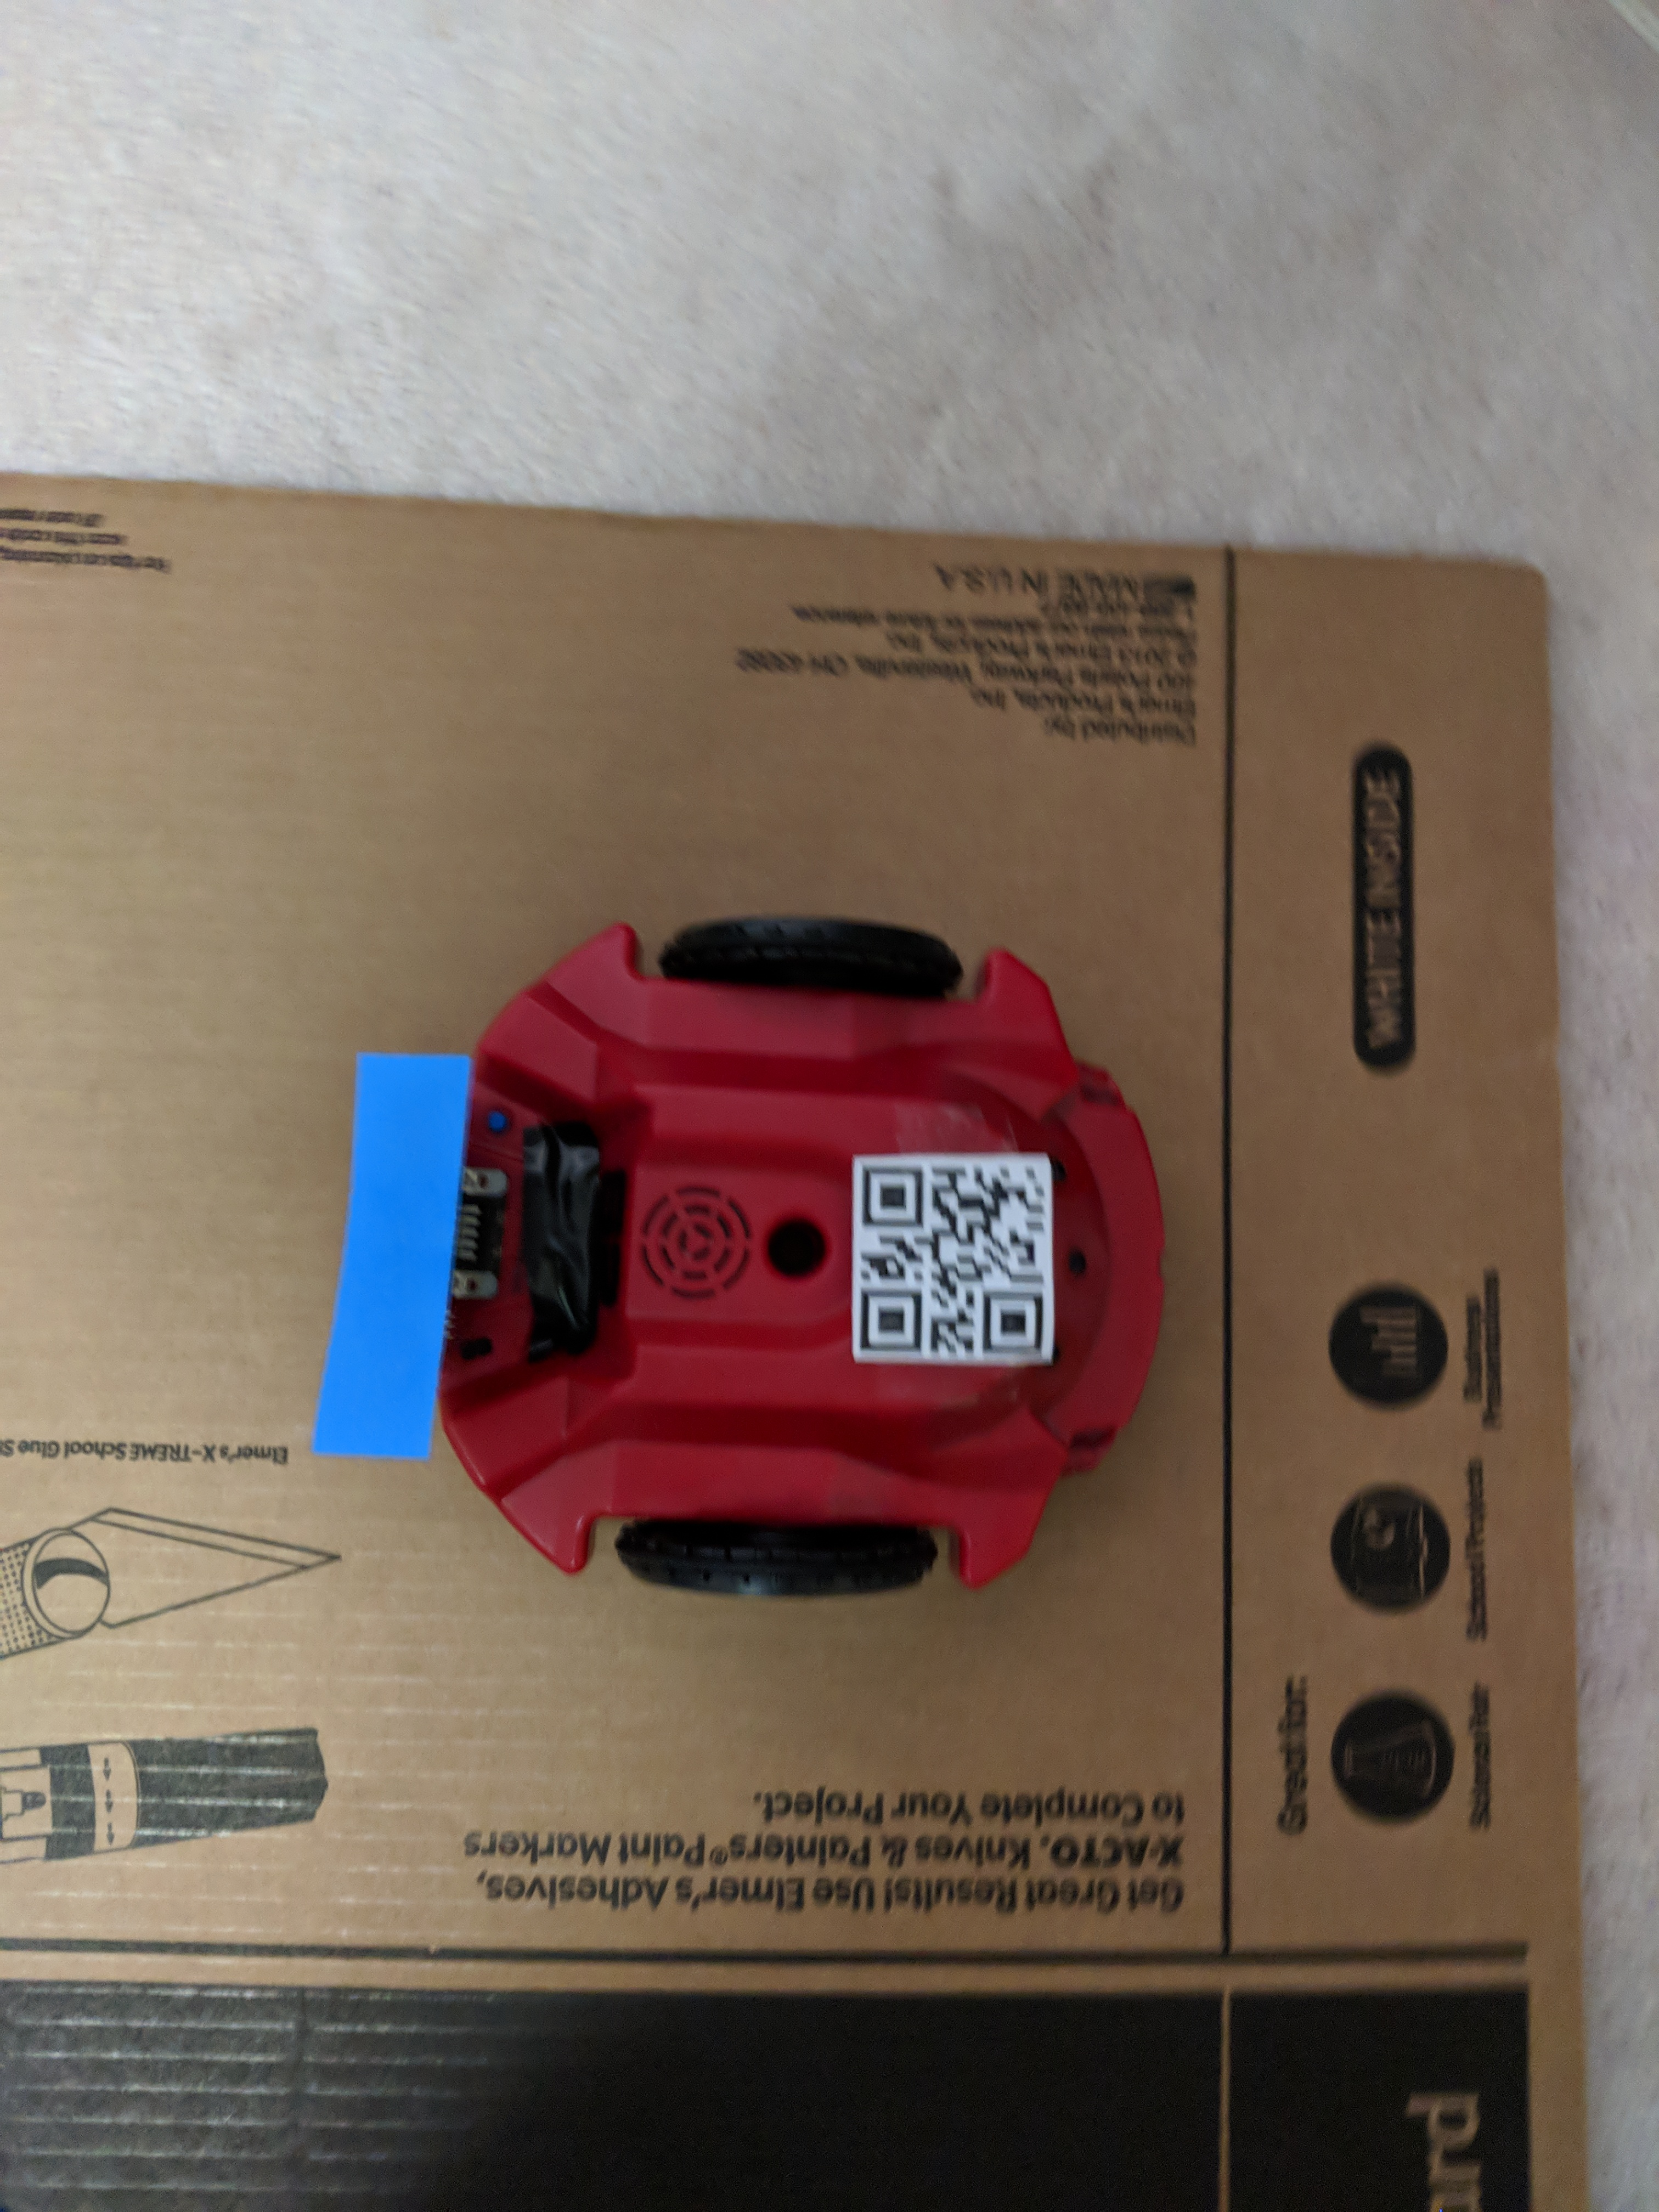chassis: (324, 913, 1159, 1601)
qr: (824, 1127, 1077, 1390)
